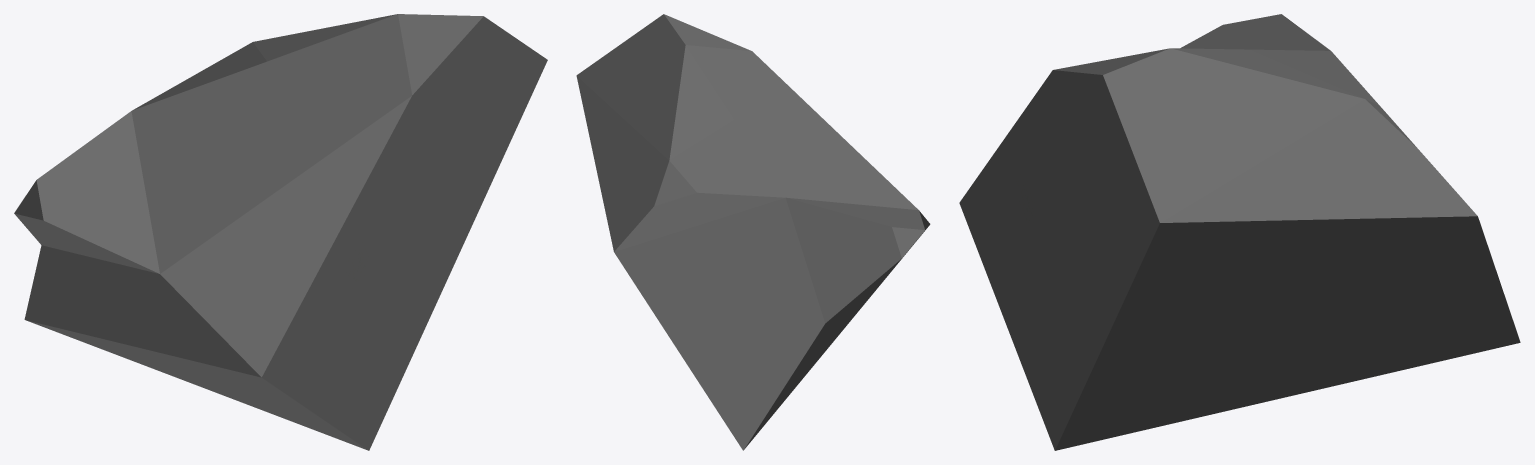
The model's file is Rock_1.fbx.
3 views of the same model, side by side, from view 1: azimuth 30°, elevation 25°; view 2: azimuth 150°, elevation 25°; view 3: azimuth 270°, elevation 25° (orthographic). The views are drawn at different scales.
Parts seen in each view (by area): view 1: polySurface298; view 2: polySurface298; view 3: polySurface298.
Part boxes in pixels (x1,y1,x2,y2): polySurface298: (14,14,547,450); polySurface298: (576,14,930,450); polySurface298: (959,14,1520,450).
Bounding box in the file's own units: 10.65 × 8.24 × 9.25.
